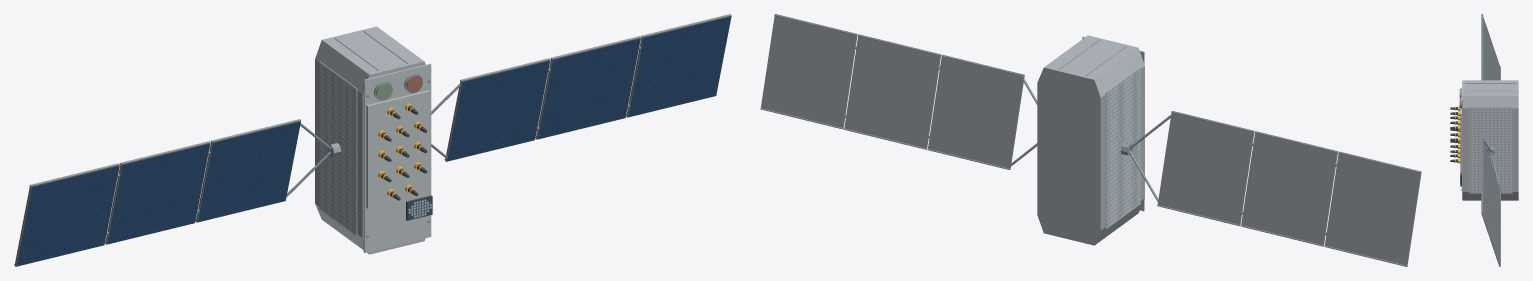
The model's file is beidou-3-secm.glb.
3 renders of one model, left to right at view 1: azimuth 30°, elevation 25°; view 2: azimuth 150°, elevation 25°; view 3: azimuth 270°, elevation 25°, orthographic. The views are drawn at different scales.
Visible parts, largest first — view 1: Solar cell strings (×6), Equipment bus, Navigation antenna mounting plate, Optical solar reflector tiles, Earth-facing equipment deck, Solar leaf backsheet (×6), Laser retroreflector mounting plate; view 2: Solar leaf backsheet (×6), Equipment bus, Optical solar reflector tiles; view 3: Optical solar reflector tiles, Equipment bus, Solar leaf backsheet (×6), Navigation antenna mounting plate, Earth-facing equipment deck, Solar wing yoke.
Boxes of the visible parts, left/top/right/bottom form: Solar cell strings (×6): left=16, top=16, right=730, bottom=266; Equipment bus: left=315, top=26, right=425, bottom=254; Navigation antenna mounting plate: left=366, top=90, right=430, bottom=208; Optical solar reflector tiles: left=319, top=61, right=357, bottom=236; Earth-facing equipment deck: left=363, top=63, right=431, bottom=252; Solar leaf backsheet (×6): left=14, top=14, right=731, bottom=266; Laser retroreflector mounting plate: left=406, top=195, right=432, bottom=220; Solar leaf backsheet (×6): left=761, top=14, right=1421, bottom=266; Equipment bus: left=1037, top=35, right=1144, bottom=245; Optical solar reflector tiles: left=1105, top=68, right=1140, bottom=228; Optical solar reflector tiles: left=1469, top=107, right=1512, bottom=193; Equipment bus: left=1463, top=80, right=1518, bottom=200; Solar leaf backsheet (×6): left=1481, top=14, right=1500, bottom=266; Navigation antenna mounting plate: left=1460, top=108, right=1461, bottom=173; Earth-facing equipment deck: left=1462, top=80, right=1462, bottom=200; Solar wing yoke: left=1490, top=153, right=1499, bottom=186.
Bounding box in the file's own units: 10.4 × 2.57 × 1.51.
11 materials, 2 textured.
